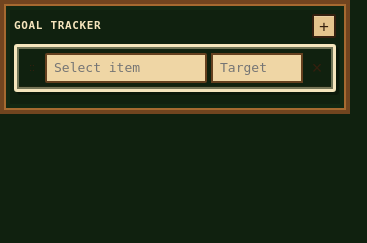
GoalSection › shows Any and Manual for pure gathering and defaults to Manual
This screenshot has width=367, height=243.
Click the field with placeholder "Select item".
click(126, 68)  # box 45,53 -> 207,83
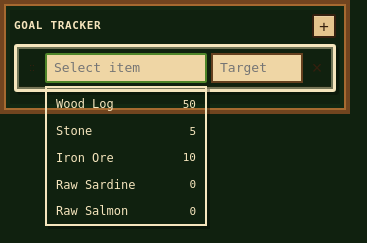
Click the text "Wood Log".
click(85, 105)  # box 56,96 -> 114,113
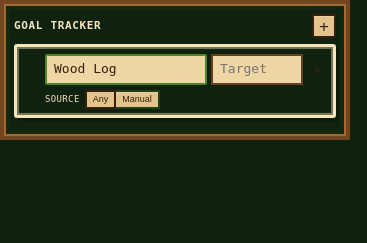
Expected: the button with aria-label "Any source." is shown, 85,90 -> 116,109
